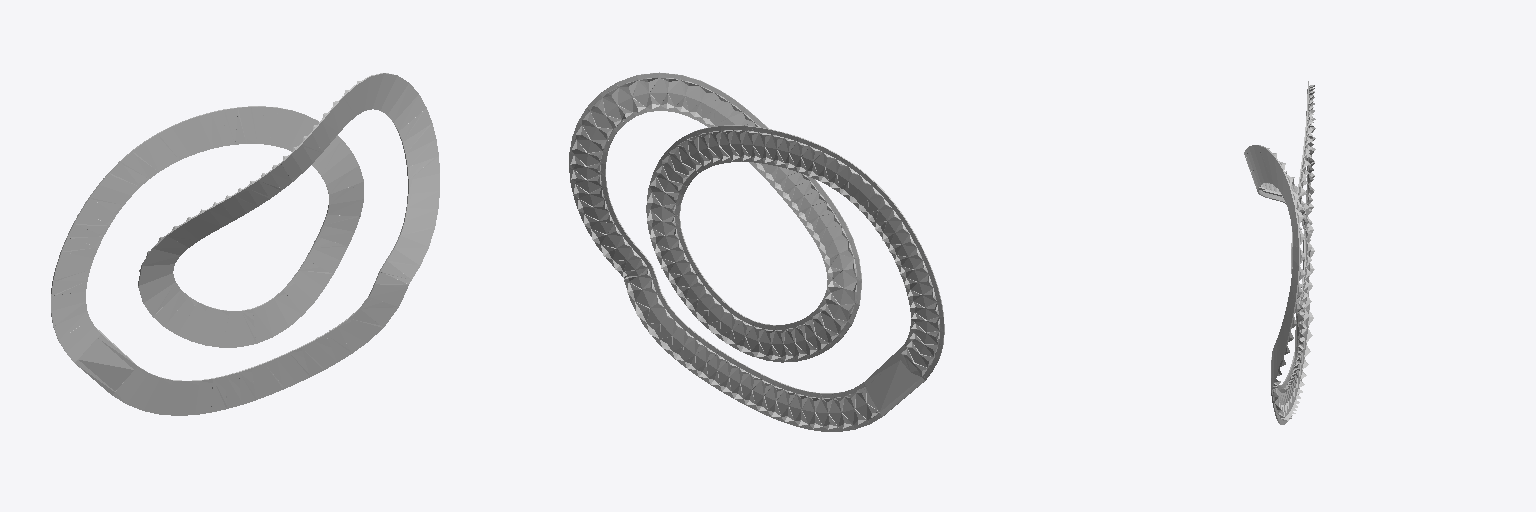
File: SPLINE2.obj
3 views of the same model, side by side, from view 1: azimuth 30°, elevation 25°; view 2: azimuth 150°, elevation 25°; view 3: azimuth 270°, elevation 25° (orthographic).
Visible parts, largest first — view 1: Object.1; view 2: Object.1; view 3: Object.1.
Boxes of the visible parts, <box> form: Object.1: <box>51,73,439,415</box>; Object.1: <box>569,72,944,431</box>; Object.1: <box>1244,81,1315,424</box>.
Bounding box in the file's own units: 512 × 396 × 83.56.